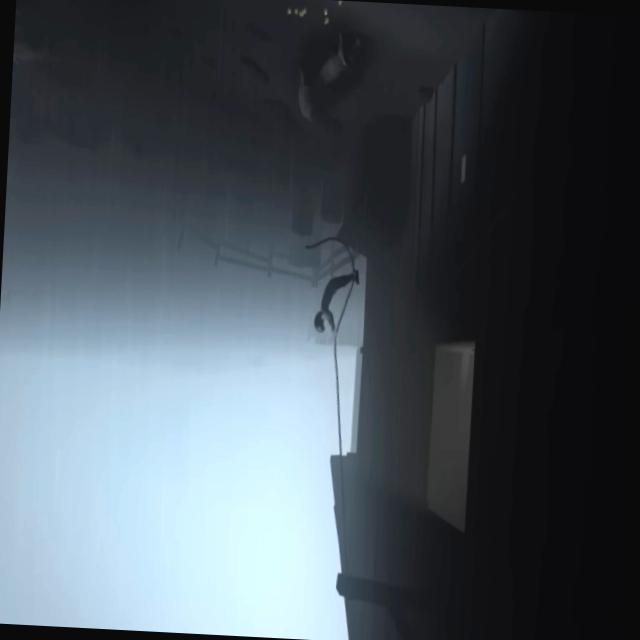boy: (314, 268, 360, 334)
